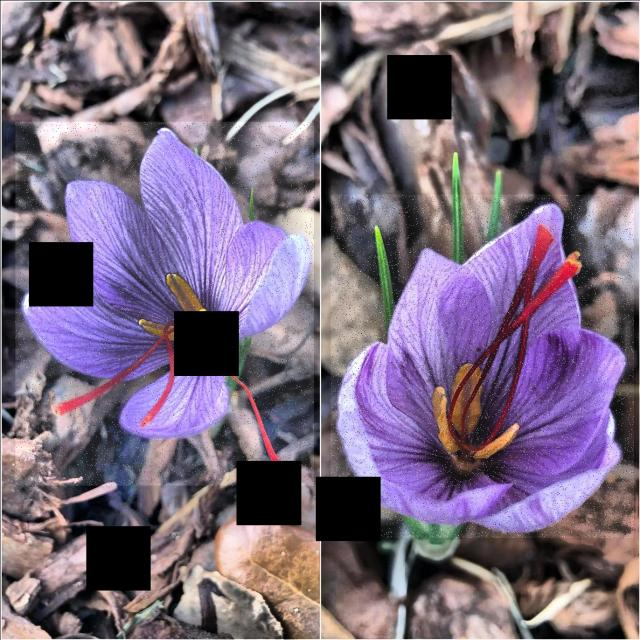Flower: (15, 121, 313, 485), (317, 195, 620, 538)
stigma: (462, 215, 553, 406), (478, 245, 592, 385), (47, 341, 173, 413), (230, 374, 274, 459)
